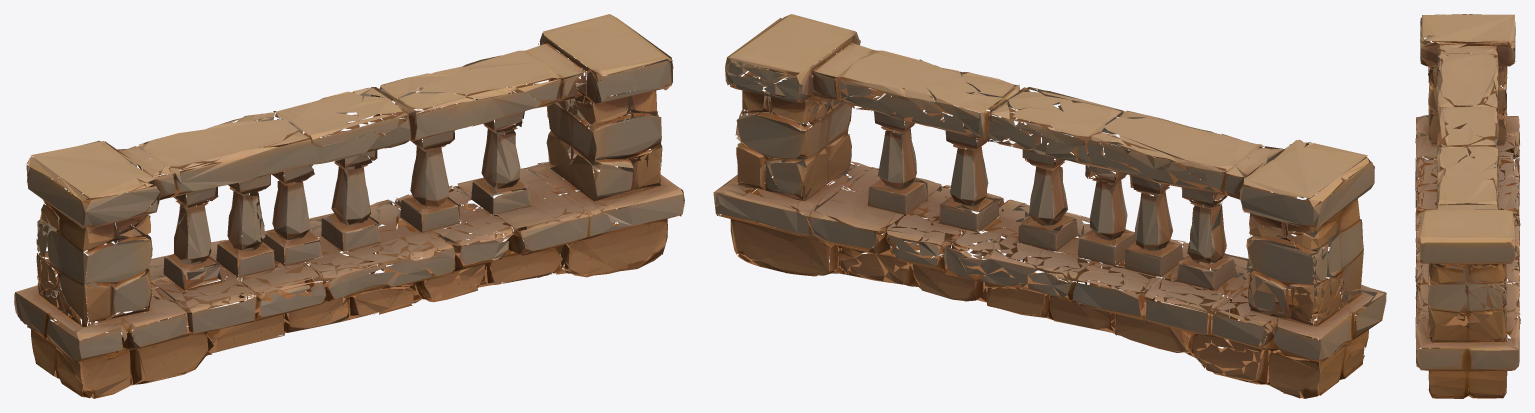
The model's file is balustrade.glb.
The picture shows the model from 3 angles, left to right: view 1: azimuth 30°, elevation 25°; view 2: azimuth 150°, elevation 25°; view 3: azimuth 270°, elevation 25°; orthographic projection. The views are drawn at different scales.
Parts seen in each view (by area): view 1: material; view 2: material; view 3: material.
Boxes of the visible parts, box(x1,y1,x2,y2) form: material: box(14, 14, 684, 398); material: box(713, 14, 1386, 398); material: box(1415, 14, 1520, 398).
Size of the model in its own units: 2.79 by 0.92 by 0.532.
Materials: 1 (1 with a texture image).
